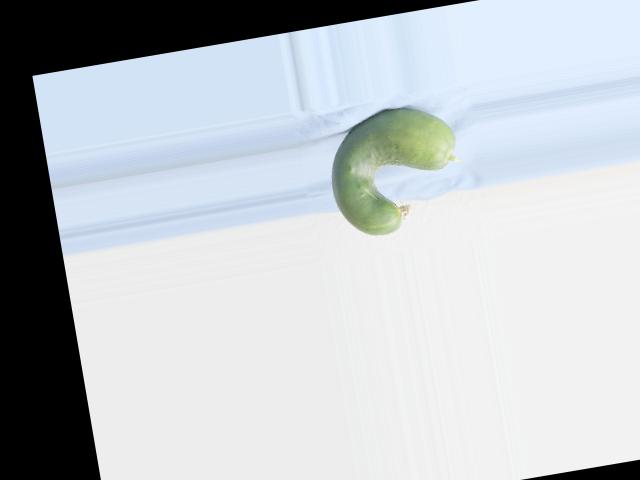cucumber: (321, 99, 469, 242)
